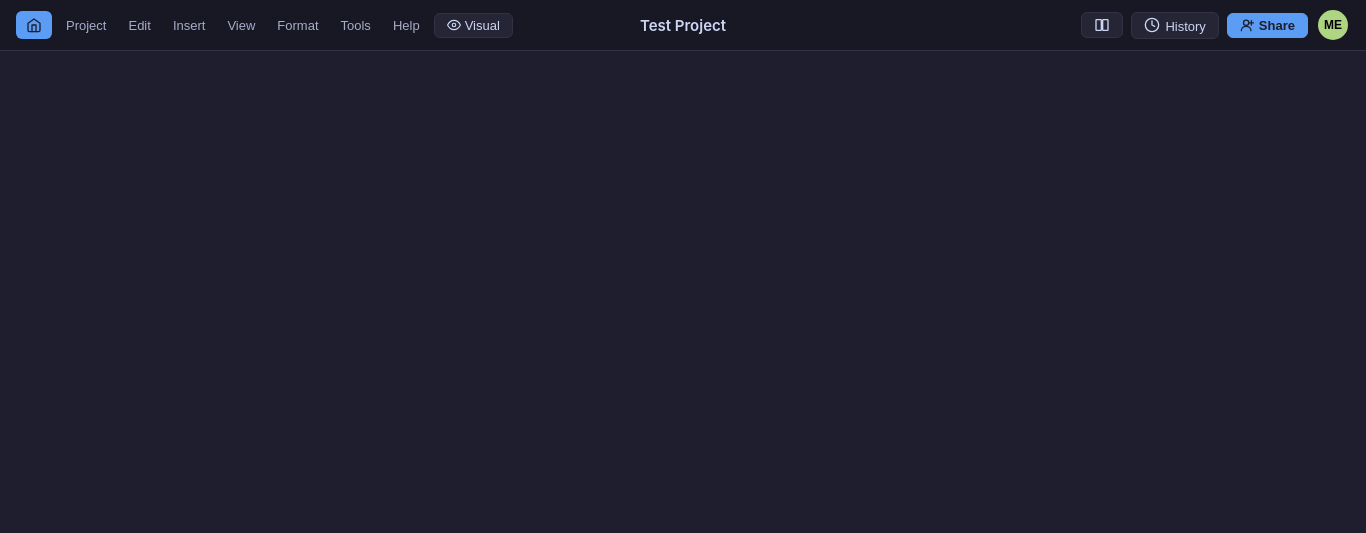
Test: Toolbar › opens View menu and shows toggles
The image size is (1366, 533).
Click the button "View" at (241, 25), box x1=217 y1=14 x2=265 y2=36
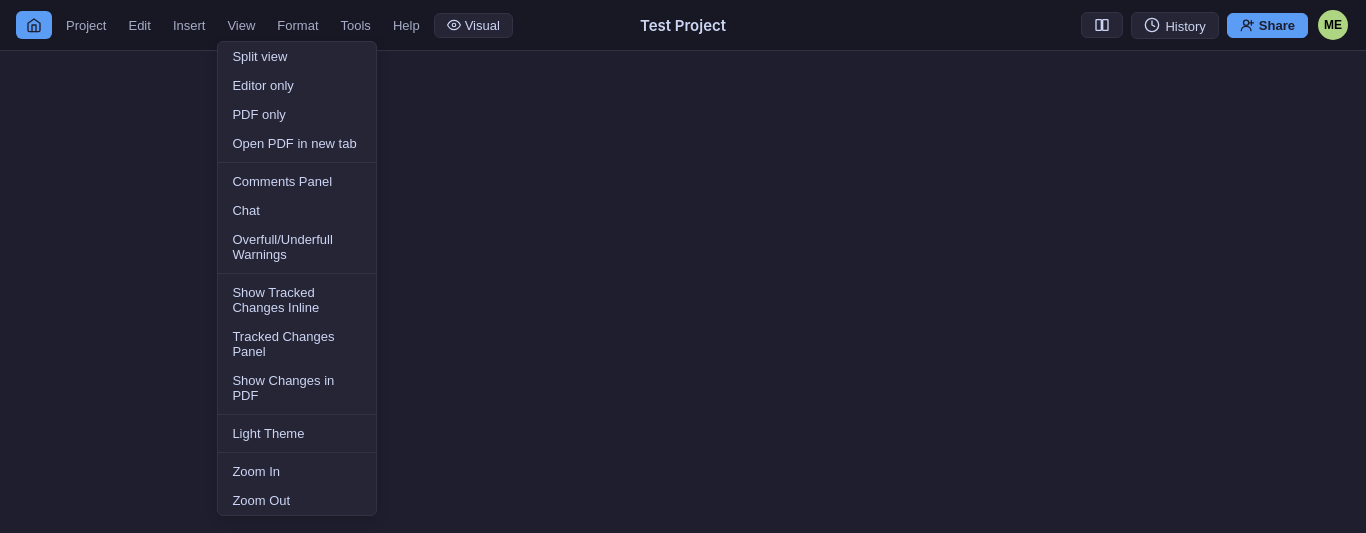
expect the button "Comments Panel" is shown: met, box x1=218 y1=166 x2=376 y2=196
expect the button "Chat" is shown: met, box x1=218 y1=196 x2=376 y2=224
